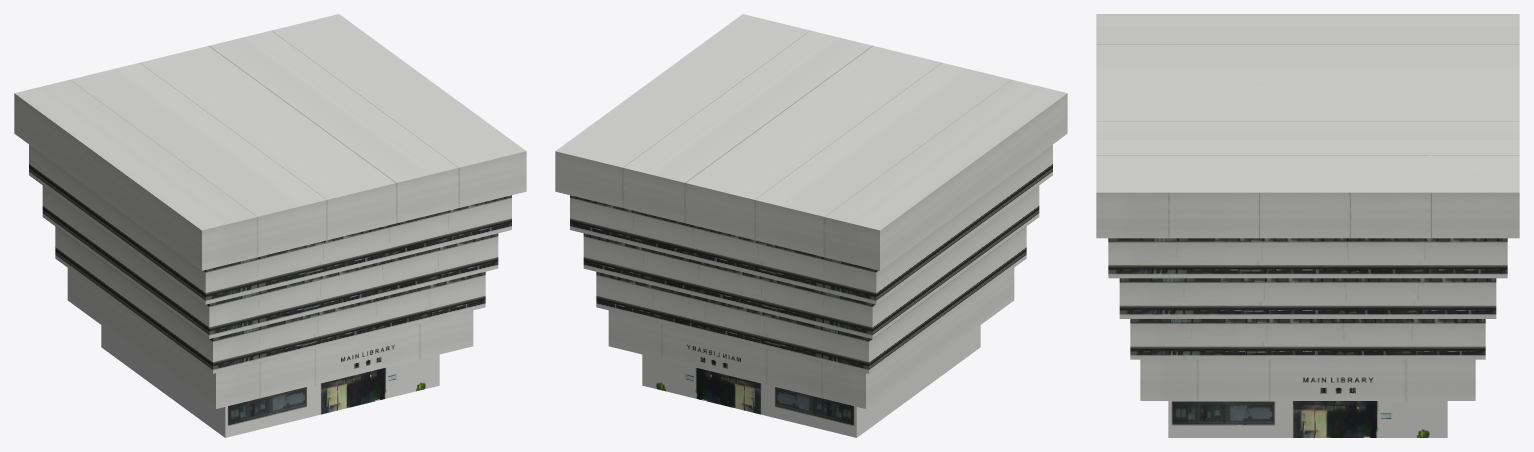
The model's file is MainLibrary.fbx.
The picture shows the model from 3 angles, left to right: view 1: azimuth 30°, elevation 25°; view 2: azimuth 150°, elevation 25°; view 3: azimuth 270°, elevation 25°; orthographic projection. The views are drawn at different scales.
Visible parts, largest first — view 1: pCube6, pCube5, pCube4, pCube3, pCube2, pCube1; view 2: pCube6, pCube5, pCube4, pCube3, pCube2, pCube1; view 3: pCube6, pCube5, pCube4, pCube3, pCube2, pCube1.
Part boxes in pixels (bbox=[...]): pCube6: bbox=[14, 14, 526, 270]; pCube5: bbox=[29, 144, 511, 304]; pCube4: bbox=[42, 185, 498, 338]; pCube3: bbox=[55, 226, 485, 373]; pCube2: bbox=[67, 268, 473, 408]; pCube1: bbox=[101, 325, 439, 437]; pCube6: bbox=[555, 14, 1067, 270]; pCube5: bbox=[570, 144, 1052, 304]; pCube4: bbox=[583, 185, 1039, 338]; pCube3: bbox=[596, 226, 1026, 373]; pCube2: bbox=[608, 268, 1014, 408]; pCube1: bbox=[642, 325, 980, 437]; pCube6: bbox=[1096, 14, 1519, 238]; pCube5: bbox=[1108, 238, 1507, 278]; pCube4: bbox=[1119, 278, 1496, 318]; pCube3: bbox=[1130, 319, 1485, 359]; pCube2: bbox=[1140, 359, 1475, 400]; pCube1: bbox=[1168, 401, 1447, 437].
Bounding box in the file's own units: 15.15 × 10.89 × 15.15.
4 materials, 4 textured.
